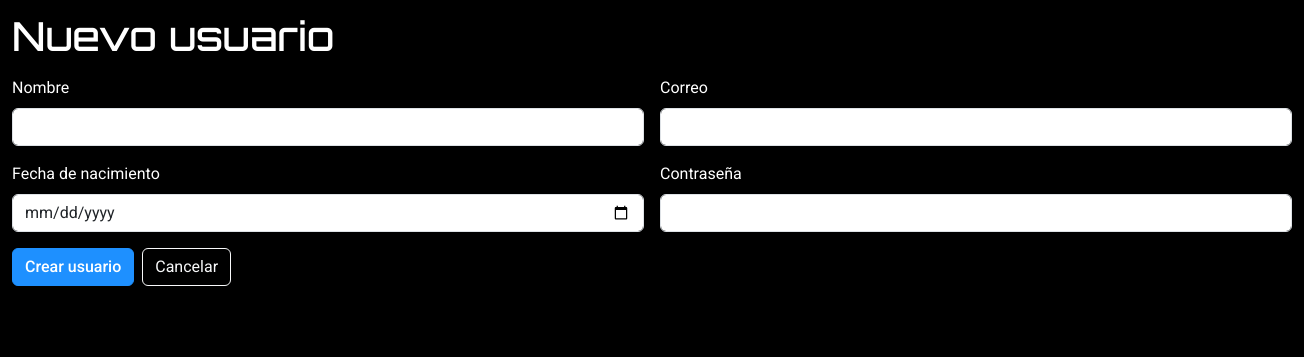
Test: AdminUsuarioFormView - nuevo usuario › con el formulario vacío muestra los errores y no crea nada
The width and height of the screenshot is (1304, 357).
Click the button "Crear usuario".
click(73, 267)  # box [12, 248, 134, 286]
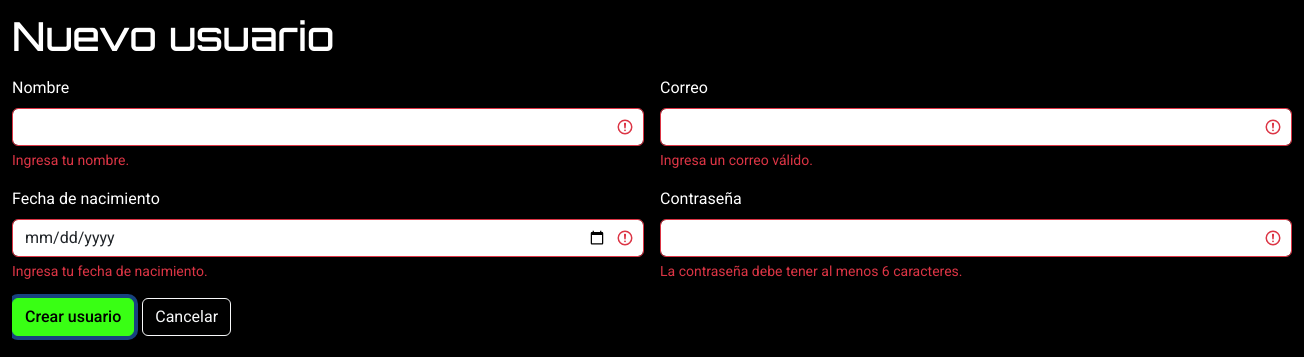
expect the text "Ingresa tu nombre." is shown: met, box [12, 152, 129, 168]
expect the text "Ingresa un correo válido." is shown: met, box [660, 152, 813, 168]
